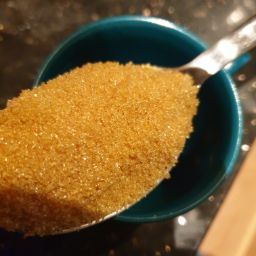Brown Sugar: (1, 82, 191, 239), (18, 58, 205, 190), (3, 117, 157, 182), (37, 90, 177, 156)
